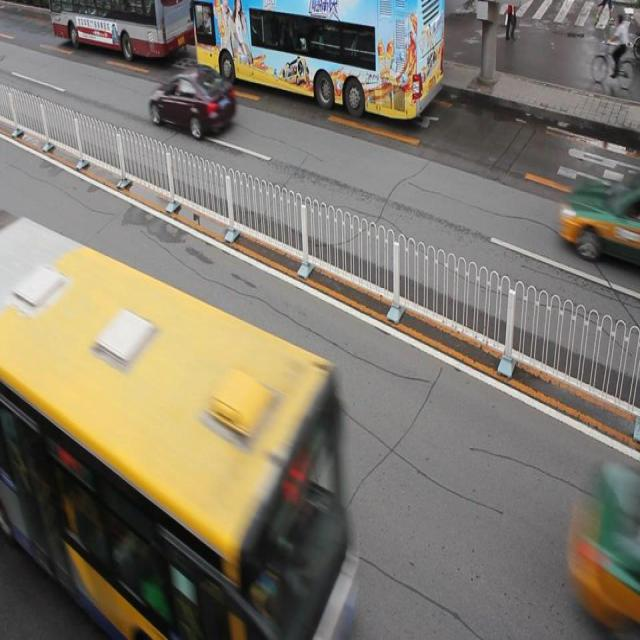car: (558, 173, 640, 267), (149, 64, 236, 137)
van: (1, 211, 350, 640), (192, 2, 443, 118), (50, 1, 193, 58)
